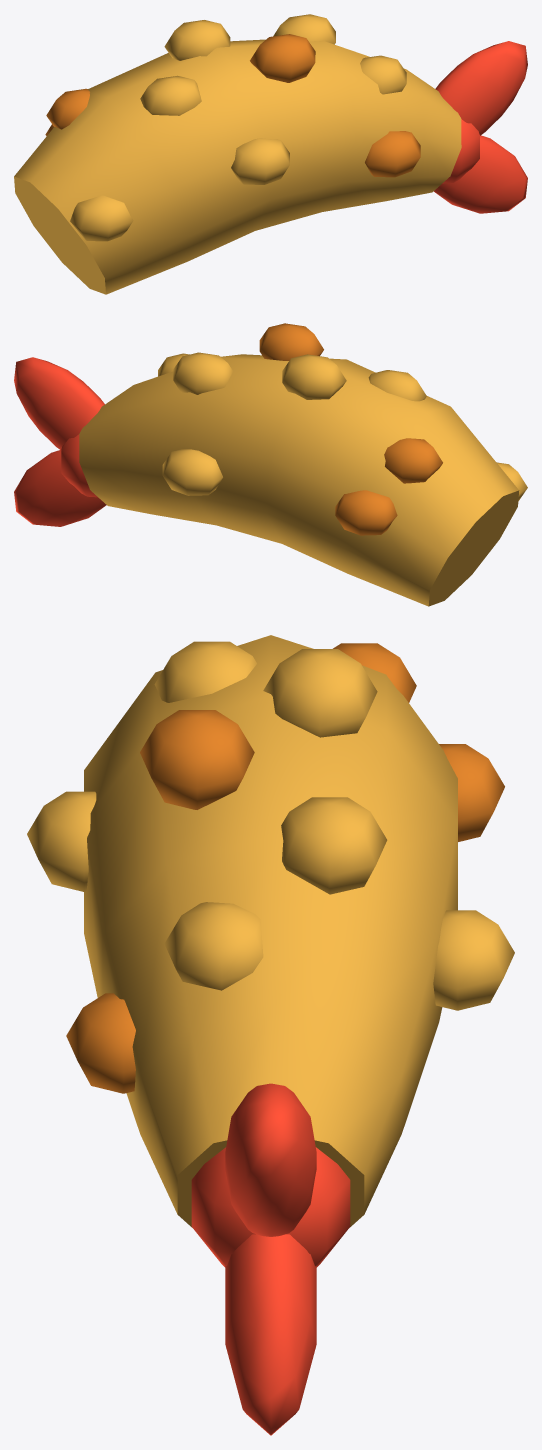
Rendered from Food_tempura.glb.
The picture shows the model from 3 angles, top to bottom: view 1: azimuth 30°, elevation 25°; view 2: azimuth 150°, elevation 25°; view 3: azimuth 270°, elevation 25°; orthographic projection. The views are drawn at different scales.
Parts seen in each view (by area): view 1: Batter_F2B544, Tail_FF4A2E, Crumb_E07F22; view 2: Batter_F2B544, Tail_FF4A2E, Crumb_E07F22; view 3: Batter_F2B544, Tail_FF4A2E, Crumb_E07F22.
Boxes of the visible parts, x1,y1,x2,y2 form: Batter_F2B544: (14,14,461,294); Tail_FF4A2E: (434,41,527,213); Crumb_E07F22: (45,34,420,177); Batter_F2B544: (79,352,527,606); Tail_FF4A2E: (14,357,106,526); Crumb_E07F22: (259,323,442,535); Batter_F2B544: (27,635,514,1227); Tail_FF4A2E: (191,1083,350,1435); Crumb_E07F22: (66,643,504,1093).
Size of the model in its own units: 2.3 by 1.11 by 0.994.
